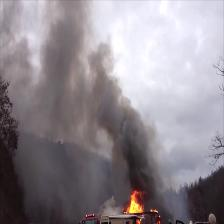fire: (127, 190, 143, 214)
smoke: (48, 0, 95, 135), (96, 47, 122, 136), (124, 104, 150, 188)
